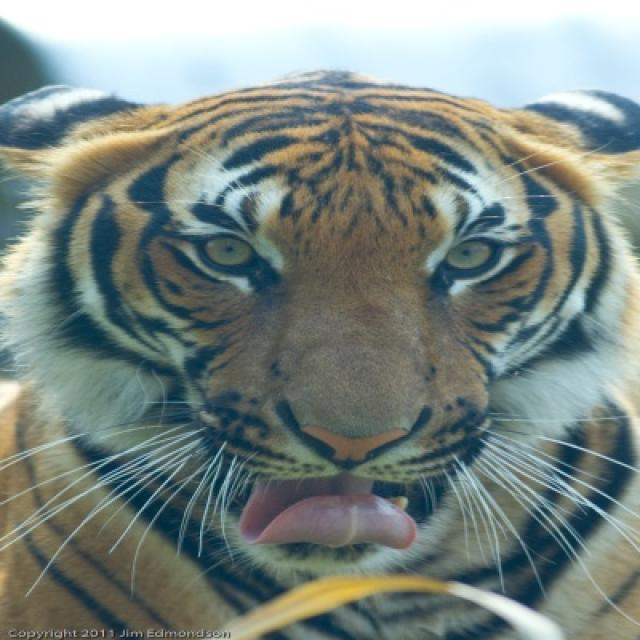Tiger: (2, 68, 638, 636)
